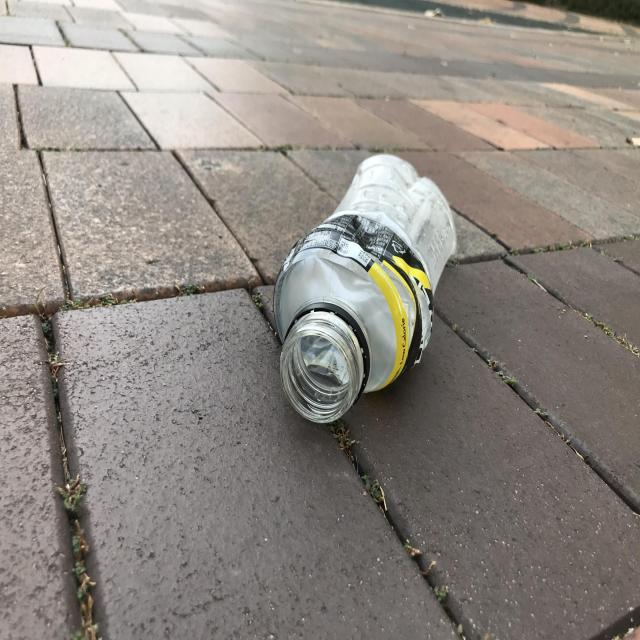plastic: (274, 153, 457, 423)
